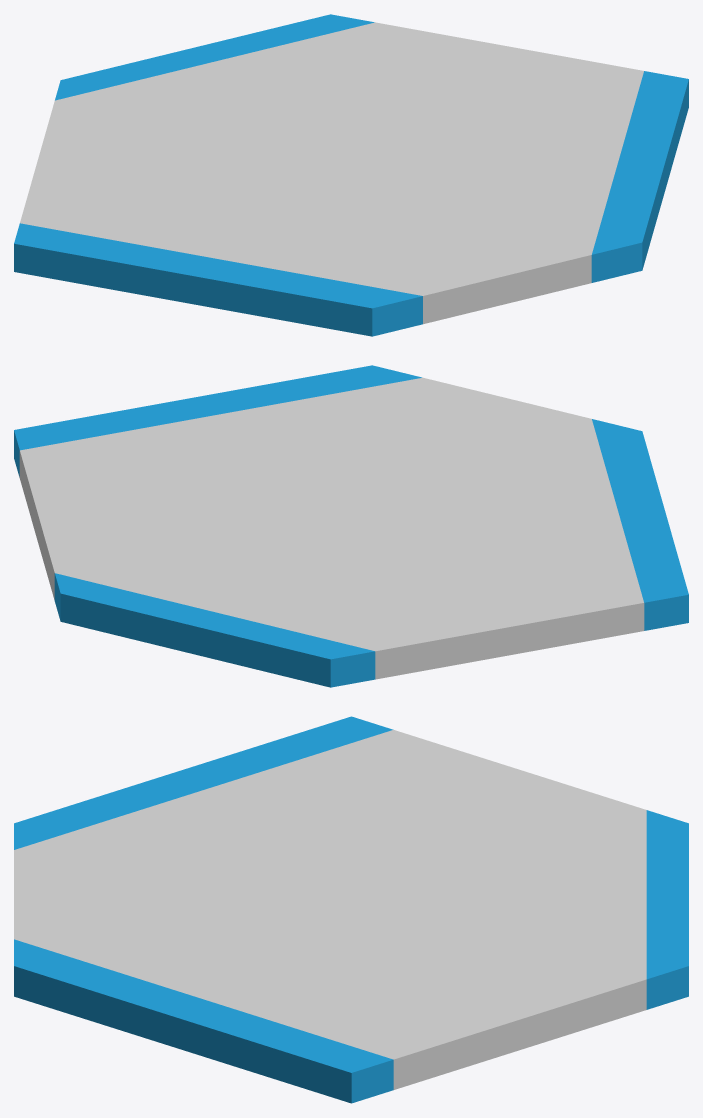
The picture shows the model from 3 angles, top to bottom: view 1: azimuth 30°, elevation 25°; view 2: azimuth 150°, elevation 25°; view 3: azimuth 270°, elevation 25°; orthographic projection. The views are drawn at different scales.
Visible parts, largest first — view 1: Hexagon, SW, SE.001, N.001; view 2: Hexagon, N.001, SW, SE.001; view 3: Hexagon, SE.001, SW, N.001.
Boxes of the visible parts, x1,y1,x2,y2 form: Hexagon: (20,22,643,324); SW: (14,223,422,336); SE.001: (591,71,688,282); N.001: (55,14,374,100); Hexagon: (19,377,644,679); N.001: (54,573,375,687); SW: (592,419,688,630); SE.001: (14,365,421,477); Hexagon: (14,730,646,1089); SE.001: (14,939,393,1103); SW: (14,716,393,849); N.001: (646,810,688,1009).
Size of the model in its own units: 5 by 4 by 0.2.
